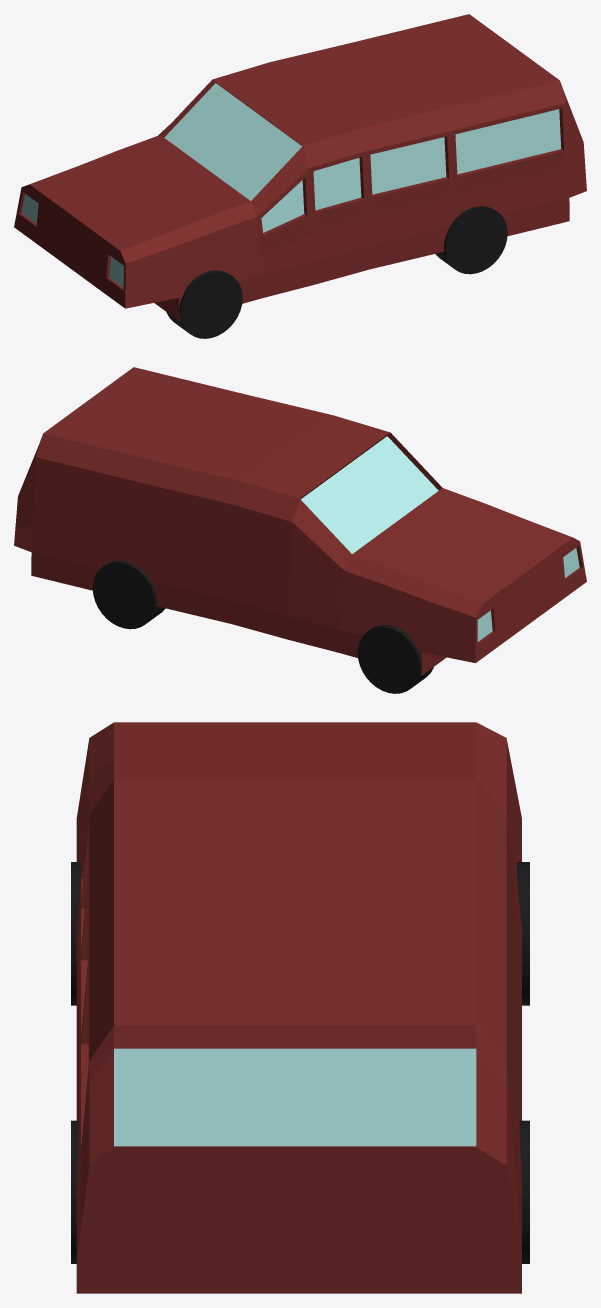
File: Car.gltf
3 views of the same model, one above another, from view 1: azimuth 30°, elevation 25°; view 2: azimuth 150°, elevation 25°; view 3: azimuth 270°, elevation 25° (orthographic). The views are drawn at different scales.
Parts seen in each view (by area): view 1: Body, WheelFL, WheelBL; view 2: Body, WheelFR, WheelBR; view 3: Body, WheelFR, WheelBR, WheelFL, WheelBL.
Boxes of the visible parts, x1,y1,x2,y2 form: Body: (14, 14, 586, 320); WheelFL: (166, 270, 242, 338); WheelBL: (435, 206, 507, 274); Body: (14, 367, 586, 675); WheelFR: (357, 624, 433, 693); WheelBR: (92, 560, 165, 629); Body: (76, 722, 521, 1293); WheelFR: (516, 862, 529, 1005); WheelBR: (519, 1120, 529, 1263); WheelFL: (71, 862, 80, 1005); WheelBL: (71, 1120, 78, 1263).
Bounding box in the file's own units: 3.11 × 1.05 × 1.34.
